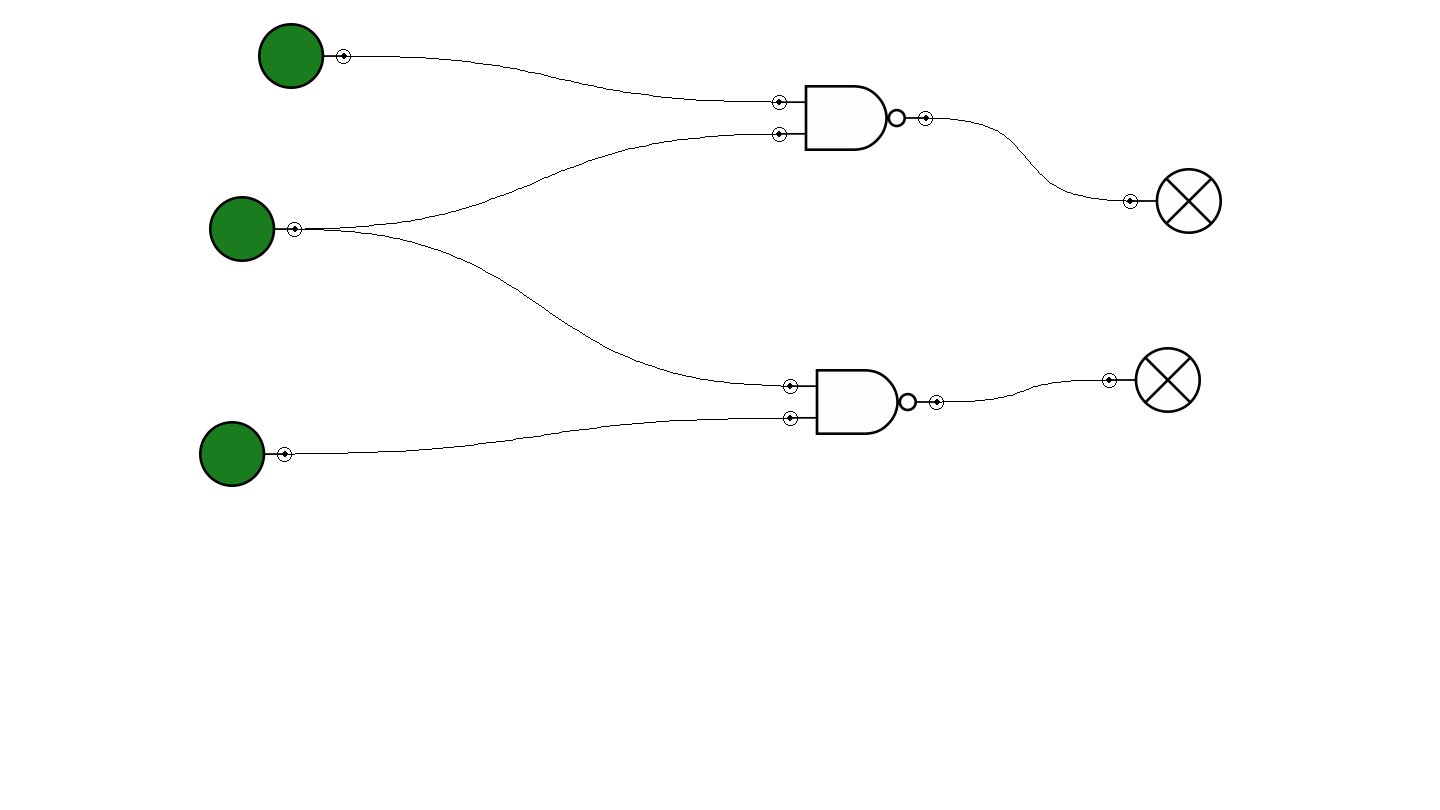bulb: (1123, 168, 1222, 234), (1102, 347, 1201, 413)
nand: (783, 369, 944, 435), (772, 85, 933, 151)
switch_True: (209, 196, 302, 262), (199, 421, 292, 487), (258, 23, 351, 89)
